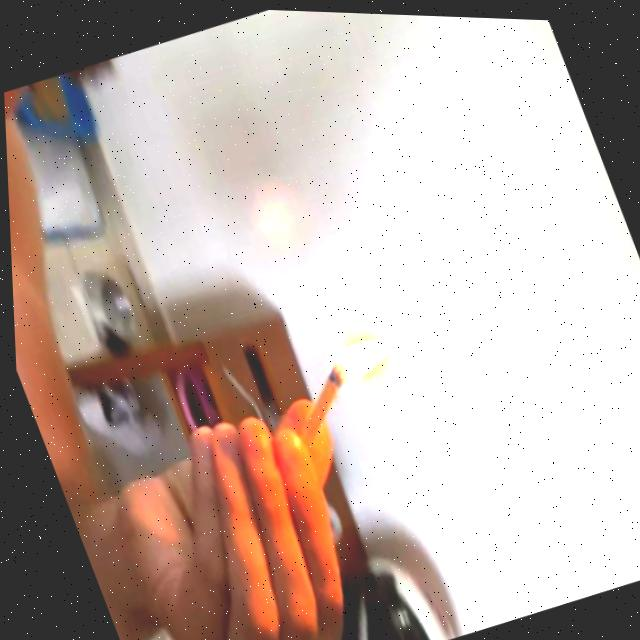Fire: (303, 319, 409, 401)
